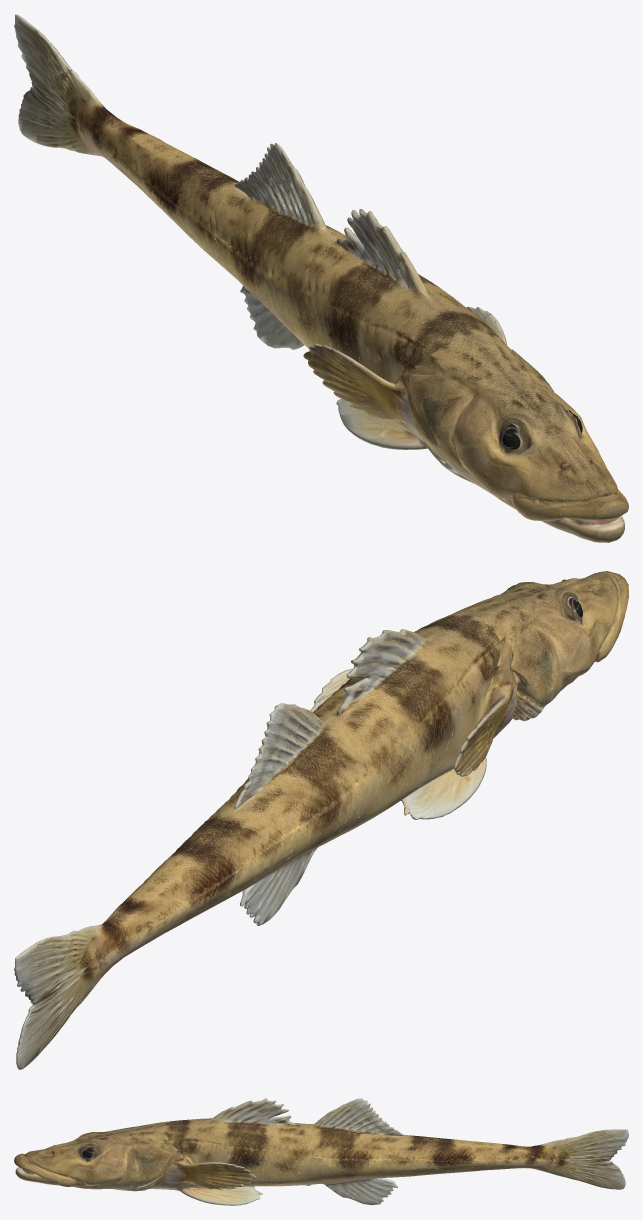
Rendered from czop.glb.
3 views of the same model, one above another, from view 1: azimuth 30°, elevation 25°; view 2: azimuth 150°, elevation 25°; view 3: azimuth 270°, elevation 25° (orthographic). The views are drawn at different scales.
Visible parts, largest first — view 1: Mesh_0; view 2: Mesh_0; view 3: Mesh_0.
Boxes of the visible parts, x1=… form: Mesh_0: x1=14, y1=14, x2=628, y2=542; Mesh_0: x1=14, y1=571, x2=628, y2=1069; Mesh_0: x1=14, y1=1098, x2=628, y2=1205.
Size of the model in its own units: 0.2874 by 0.3644 by 1.9.
1 material, 1 textured.
